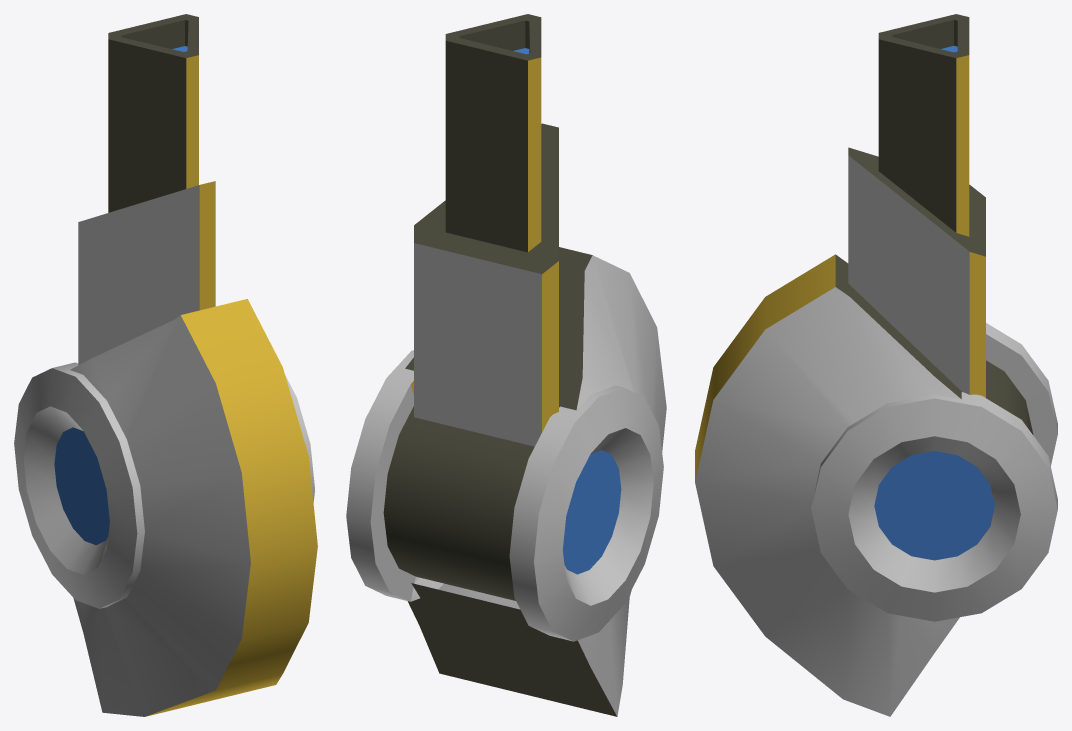
File: gun1.fbx
3 renders of one model, left to right at view 1: azimuth 30°, elevation 25°; view 2: azimuth 150°, elevation 25°; view 3: azimuth 270°, elevation 25°, orthographic. The views are drawn at different scales.
Visible parts, largest first — view 1: Cylinder.002; view 2: Cylinder.002; view 3: Cylinder.002.
Part boxes in pixels (x1=…): Cylinder.002: x1=14, y1=14, x2=317, y2=716; Cylinder.002: x1=346, y1=14, x2=666, y2=716; Cylinder.002: x1=695, y1=14, x2=1057, y2=716.
Size of the model in its own units: 1.1 by 3.44 by 1.77.
